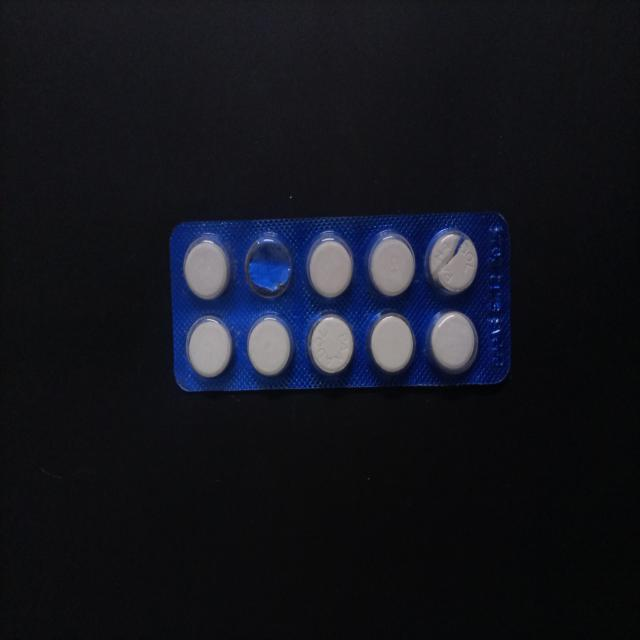defect: (424, 225, 481, 298), (242, 228, 297, 302)
